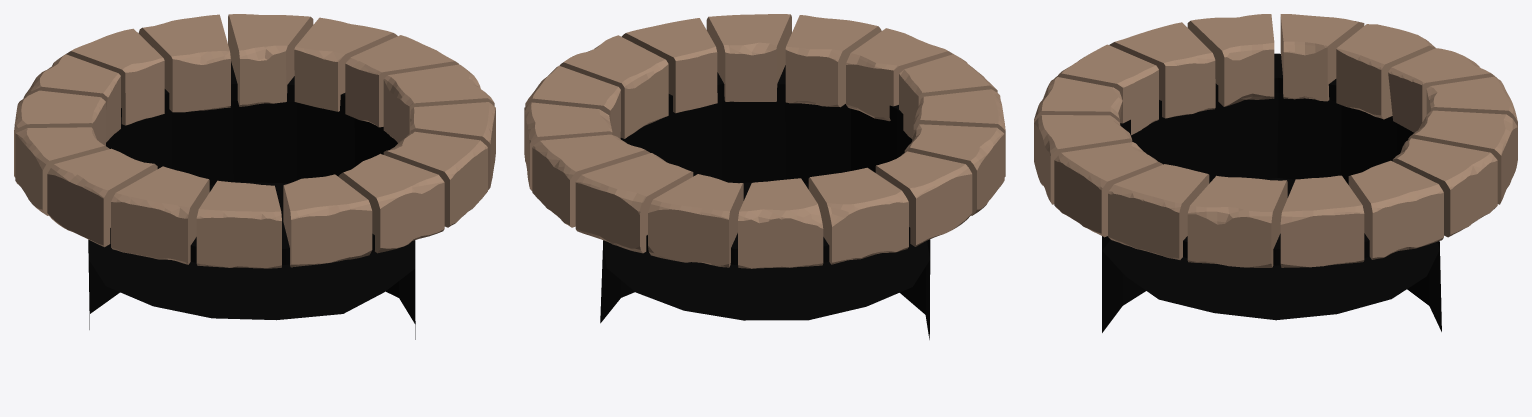
File: Puit.fbx
3 views of the same model, side by side, from view 1: azimuth 30°, elevation 25°; view 2: azimuth 150°, elevation 25°; view 3: azimuth 270°, elevation 25° (orthographic).
Parts seen in each view (by area): view 1: Puit; view 2: Puit; view 3: Puit.
Boxes of the visible parts, box(x1,y1,x2,y2) form: Puit: box(14, 14, 495, 339); Puit: box(524, 14, 1005, 339); Puit: box(1034, 14, 1517, 332).
Size of the model in its own units: 199 by 99.9 by 199.
